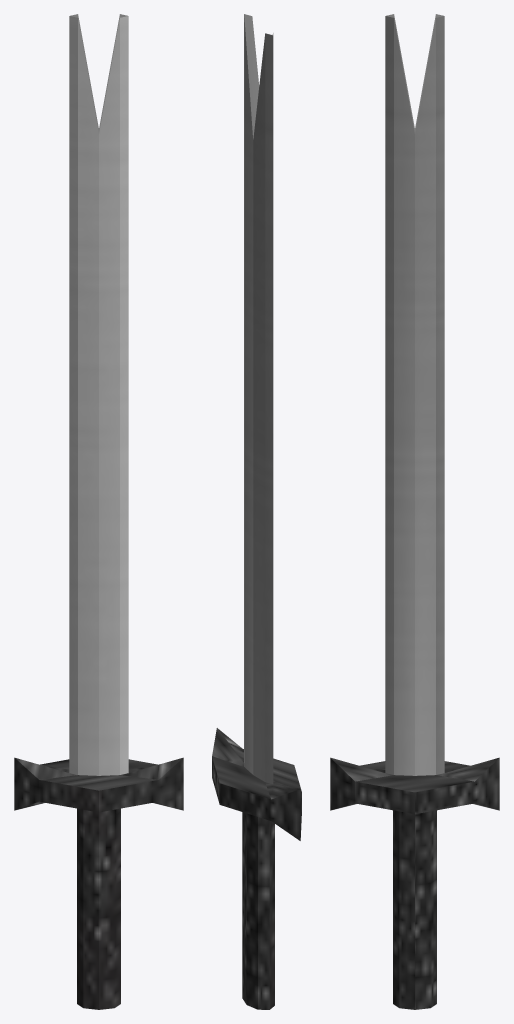
The model's file is sword.glb.
3 views of the same model, side by side, from view 1: azimuth 90°, elevation 25°; view 2: azimuth 210°, elevation 25°; view 3: azimuth 270°, elevation 25° (orthographic).
Parts seen in each view (by area): view 1: Sword; view 2: Sword; view 3: Sword.
Boxes of the visible parts, left/top/right/bottom form: Sword: left=14, top=14, right=183, bottom=1009; Sword: left=212, top=14, right=301, bottom=1009; Sword: left=330, top=14, right=499, bottom=1009.
Bounding box in the file's own units: 0.1618 × 2.03 × 0.3146.
1 material, 1 textured.
